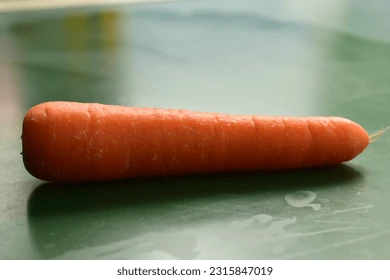carrot: (19, 88, 390, 209)
